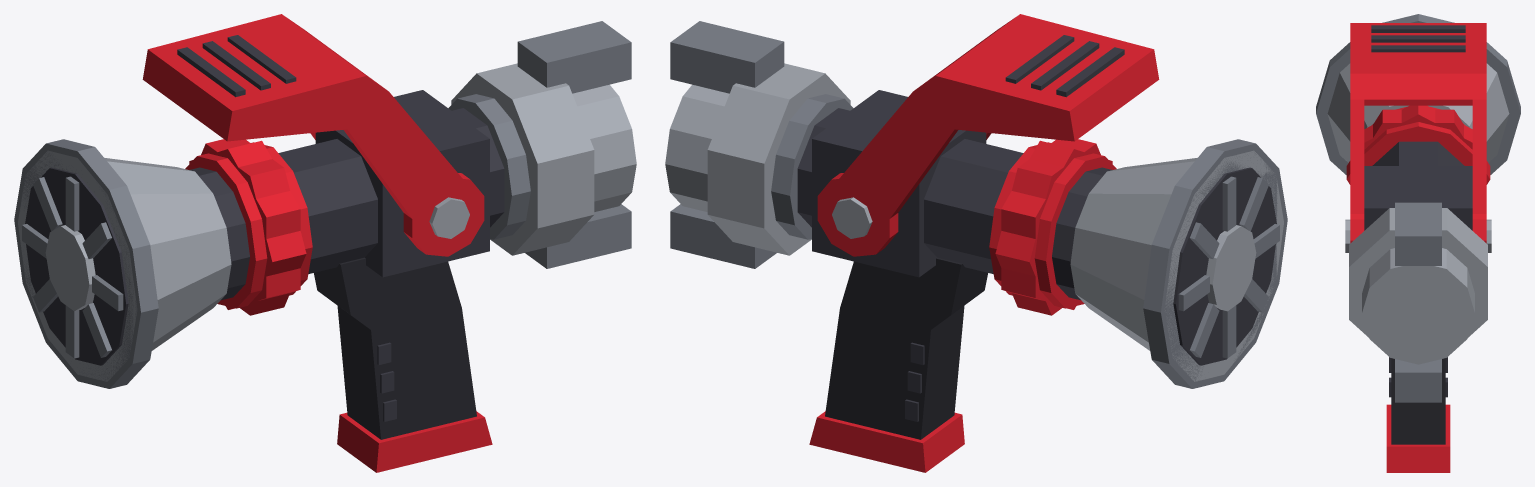
File: HoseNozzle.fbx
3 views of the same model, side by side, from view 1: azimuth 30°, elevation 25°; view 2: azimuth 150°, elevation 25°; view 3: azimuth 270°, elevation 25° (orthographic). The views are drawn at different scales.
Parts seen in each view (by area): view 1: Nozzle, Lever, Ring; view 2: Nozzle, Lever, Ring; view 3: Nozzle, Lever, Ring.
Part boxes in pixels (box(x1,y1,x2,y2)): Nozzle: box(14, 21, 636, 472); Lever: box(142, 14, 484, 256); Ring: box(185, 139, 312, 315); Nozzle: box(665, 21, 1287, 472); Lever: box(817, 14, 1159, 256); Ring: box(989, 139, 1116, 315); Nozzle: box(1316, 14, 1520, 472); Lever: box(1345, 23, 1491, 252); Ring: box(1346, 105, 1490, 184).
Bounding box in the file's own units: 0.435 × 0.321 × 0.174.
